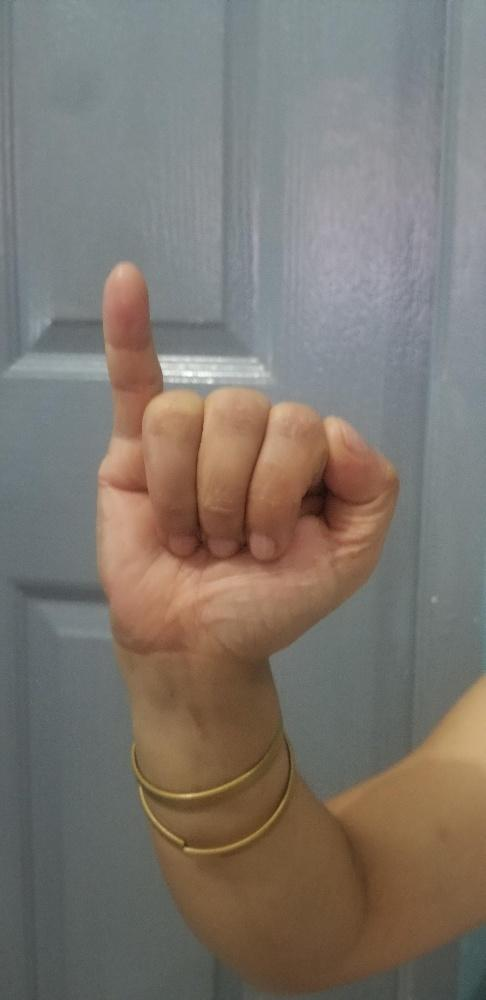i: (91, 258, 400, 656)
